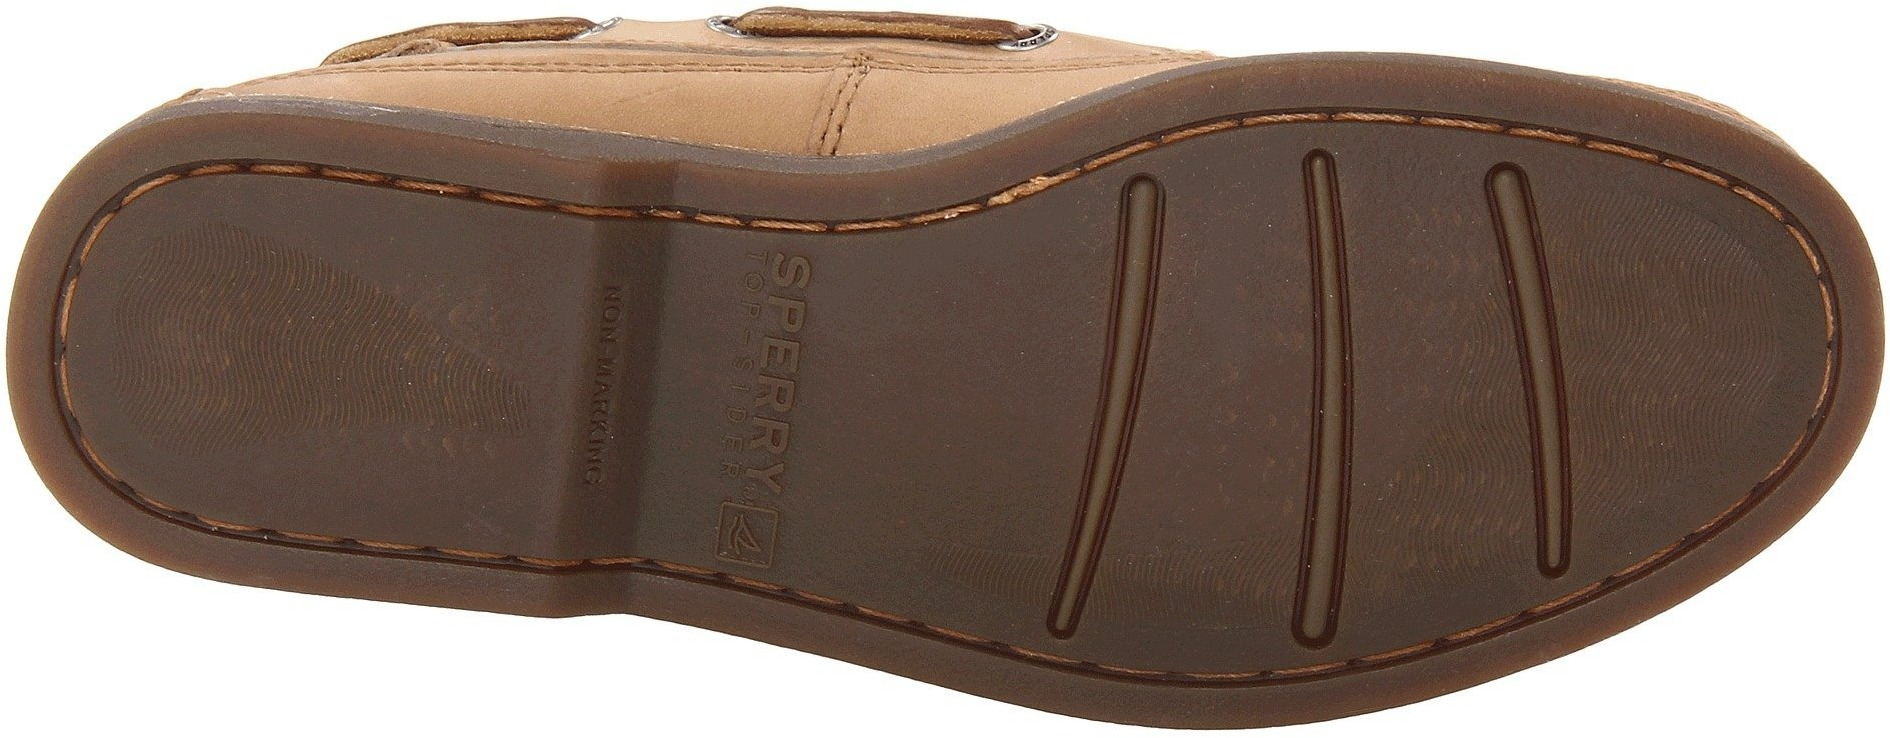chevron: (143, 221, 388, 437), (1580, 219, 1792, 443), (1372, 406, 1531, 572)
exclude: (530, 87, 1032, 708)
line: (1445, 137, 1581, 254), (1264, 134, 1389, 248), (1091, 157, 1203, 264)
other: (861, 259, 1064, 462), (1131, 342, 1316, 512)
ribbon: (1575, 107, 1687, 213), (27, 262, 121, 361), (1784, 265, 1873, 362)
text: (735, 348, 844, 462), (705, 470, 817, 576), (734, 248, 833, 346)
